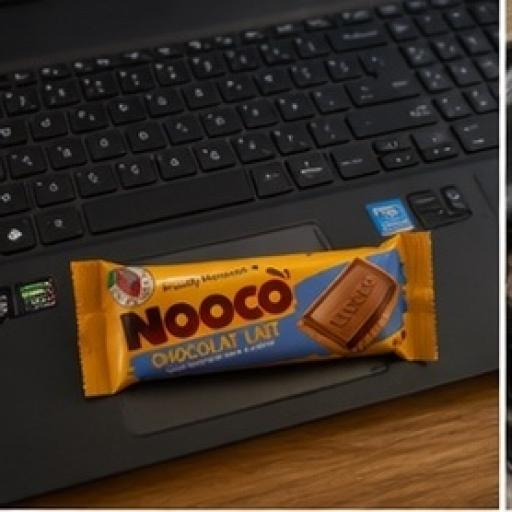nooco: (67, 208, 466, 428)
